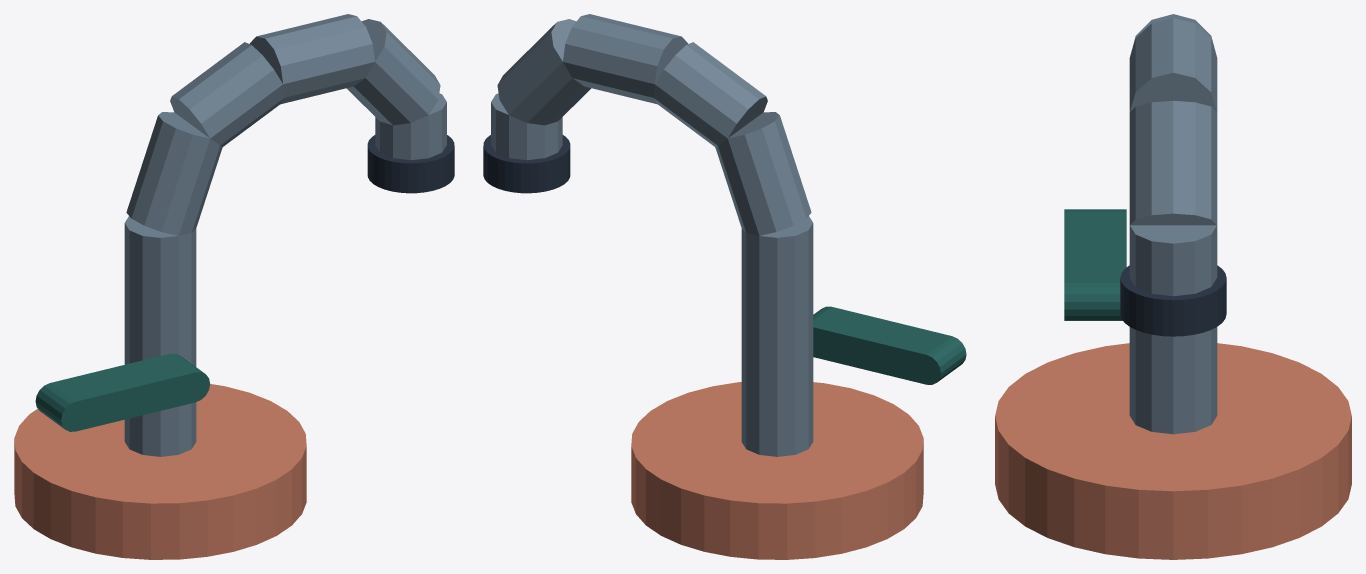
Rendered from faucet.glb.
The picture shows the model from 3 angles, left to right: view 1: azimuth 30°, elevation 25°; view 2: azimuth 150°, elevation 25°; view 3: azimuth 270°, elevation 25°; orthographic projection. The views are drawn at different scales.
Parts seen in each view (by area): view 1: base, pipe0, lever, pipe1, pipe3, pipe2, pipe4, outlet, pipe5; view 2: base, pipe0, lever, pipe1, pipe3, pipe2, pipe4, outlet, pipe5; view 3: base, pipe4, pipe0, pipe3, lever, pipe5, outlet.
Part boxes in pixels (left/top/right/bottom): base: left=14, top=384, right=306, bottom=559; pipe0: left=124, top=216, right=196, bottom=456; lever: left=35, top=353, right=209, bottom=431; pipe1: left=126, top=112, right=222, bottom=235; pipe3: left=249, top=14, right=374, bottom=104; pipe2: left=170, top=42, right=284, bottom=146; pipe4: left=347, top=19, right=440, bottom=125; outlet: left=367, top=135, right=454, bottom=193; pipe5: left=375, top=93, right=446, bottom=160; base: left=631, top=382, right=923, bottom=559; pipe0: left=741, top=216, right=813, bottom=456; lever: left=813, top=306, right=966, bottom=384; pipe1: left=715, top=112, right=811, bottom=235; pipe3: left=563, top=14, right=688, bottom=104; pipe2: left=653, top=42, right=767, bottom=146; pipe4: left=497, top=19, right=590, bottom=125; outlet: left=483, top=135, right=570, bottom=193; pipe5: left=491, top=93, right=562, bottom=160; base: left=995, top=343, right=1351, bottom=559; pipe4: left=1129, top=100, right=1217, bottom=225; pipe0: left=1129, top=327, right=1217, bottom=434; pipe3: left=1129, top=18, right=1217, bottom=111; lever: left=1064, top=209, right=1126, bottom=320; pipe5: left=1129, top=225, right=1217, bottom=296; outlet: left=1120, top=265, right=1226, bottom=336.
Size of the model in its own units: 1.36 by 1.31 by 0.8.
